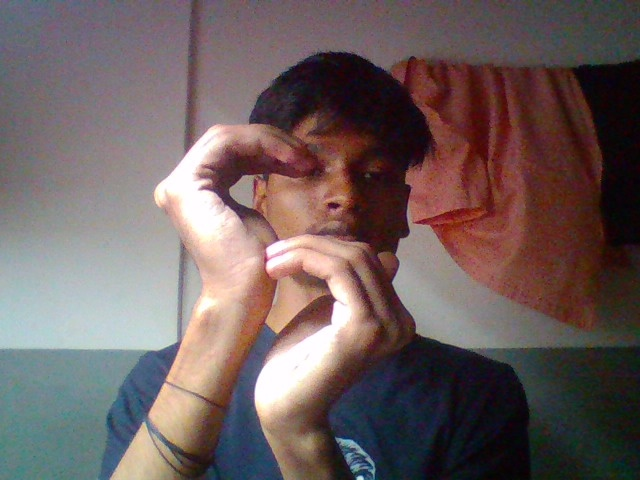S: (134, 126, 434, 433)
